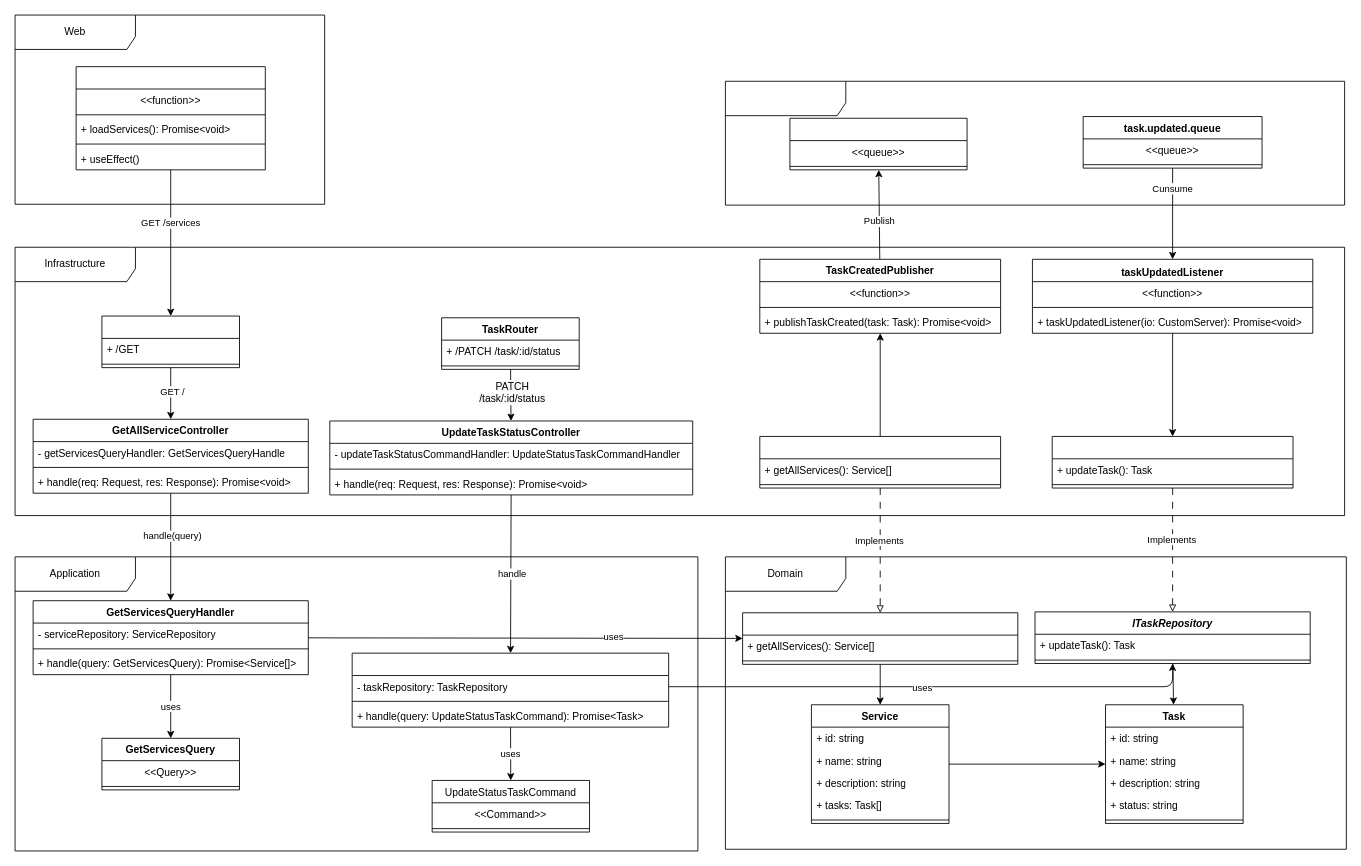
This 1361x866 diagram has some shape labels left out. The box of each missing label's shape, as (x1, y1, x2, y2) in pixels:
Broker (RabbitMQ): (725, 80, 1345, 205)
InMemoryServiceRepository: (759, 436, 1001, 488)
InMemoryTaskRepository: (1051, 436, 1293, 488)
IServiceRepository: (742, 612, 1018, 664)
ServiceList: (75, 66, 265, 170)
ServiceRouter: (101, 315, 240, 368)
task.created.queue: (789, 117, 967, 170)
UpdateStatusTaskCommandHandler: (351, 652, 669, 727)
